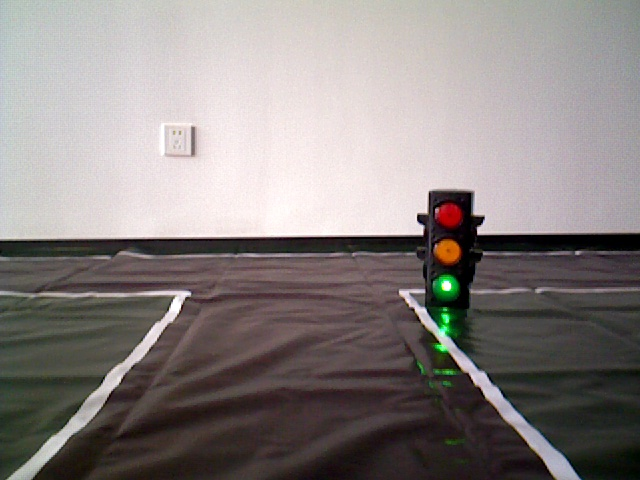green: (425, 194, 465, 307)
